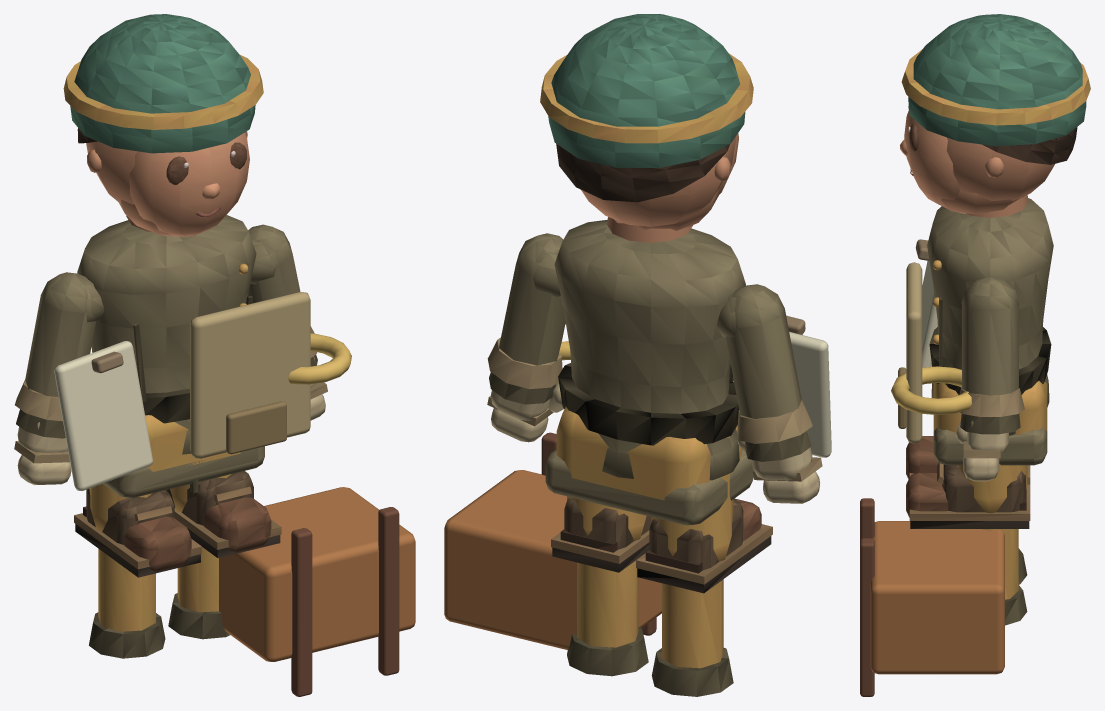
The model's file is han-seojun.glb.
3 renders of one model, left to right at view 1: azimuth 30°, elevation 25°; view 2: azimuth 150°, elevation 25°; view 3: azimuth 270°, elevation 25°, orthographic. The views are drawn at different scales.
Visible parts, largest first — view 1: coat, legs, hat, cooperativeSampleCrate, sortingApron, figureDetail, cooperativeLedger, armLeftMesh, handLeftMesh, cooperativeCrateSlatRight, cooperativeCrateSlatLeft, armRightMesh (+4 smaller); view 2: coat, legs, hat, cooperativeSampleCrate, armLeftMesh, figureDetail, armRightMesh, trousers, handLeftMesh, handRightMesh, cooperativeLedger, neck; view 3: cooperativeSampleCrate, hat, coat, legs, figureDetail, armRightMesh, handRightMesh, sortingApron, qualitySampleRing, cooperativeCrateSlatRight, trousers, cooperativeLedger (+2 smaller).
Part boxes in pixels (left/top/right/bottom): coat: left=77, top=215, right=264, bottom=497; legs: left=74, top=471, right=281, bottom=658; hat: left=63, top=14, right=263, bottom=153; cooperativeSampleCrate: left=219, top=487, right=415, bottom=661; sortingApron: left=190, top=292, right=310, bottom=458; figureDetail: left=77, top=128, right=249, bottom=236; cooperativeLedger: left=54, top=341, right=152, bottom=490; armLeftMesh: left=16, top=272, right=104, bottom=438; handLeftMesh: left=14, top=380, right=71, bottom=485; cooperativeCrateSlatRight: left=378, top=507, right=399, bottom=675; cooperativeCrateSlatLeft: left=291, top=528, right=312, bottom=696; armRightMesh: left=248, top=224, right=317, bottom=366; coat: left=545, top=220, right=753, bottom=525; legs: left=551, top=436, right=772, bottom=696; hat: left=540, top=14, right=753, bottom=167; cooperativeSampleCrate: left=444, top=470, right=661, bottom=649; armLeftMesh: left=717, top=284, right=811, bottom=461; figureDetail: left=556, top=133, right=738, bottom=230; armRightMesh: left=489, top=233, right=565, bottom=404; trousers: left=556, top=407, right=742, bottom=500; handLeftMesh: left=736, top=399, right=822, bottom=503; handRightMesh: left=487, top=337, right=563, bottom=442; cooperativeLedger: left=789, top=331, right=831, bottom=457; neck: left=607, top=217, right=692, bottom=242; cooperativeSampleCrate: left=870, top=521, right=1004, bottom=674; hat: left=901, top=14, right=1090, bottom=146; coat: left=927, top=198, right=1053, bottom=465; legs: left=906, top=436, right=1030, bottom=625; figureDetail: left=900, top=106, right=1077, bottom=214; armRightMesh: left=960, top=277, right=1020, bottom=434; handRightMesh: left=956, top=388, right=1024, bottom=481; sortingApron: left=906, top=262, right=922, bottom=443; qualitySampleRing: left=891, top=366, right=971, bottom=414; cooperativeCrateSlatRight: left=860, top=538, right=874, bottom=696; trousers: left=933, top=381, right=1047, bottom=434; cooperativeLedger: left=922, top=260, right=937, bottom=367.
Bounding box in the file's own units: 1.25 × 2.26 × 0.7881.
